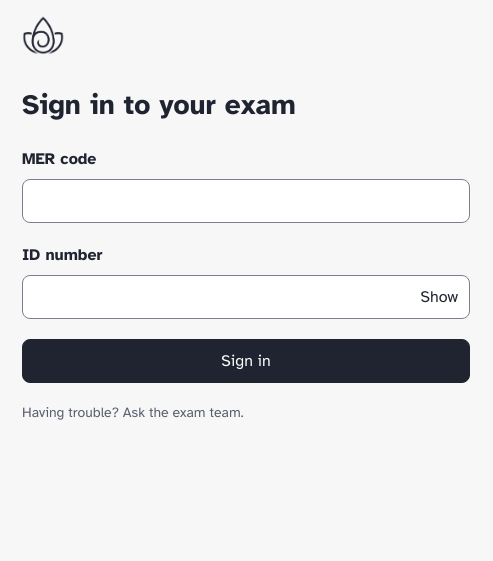
Test: LoginForm › shows the one generic credential error and clears only the ID
This screenshot has width=493, height=561.
Type "test-001" into the field labelled "MER code". click: x=246, y=201
box: [22,179,470,223]
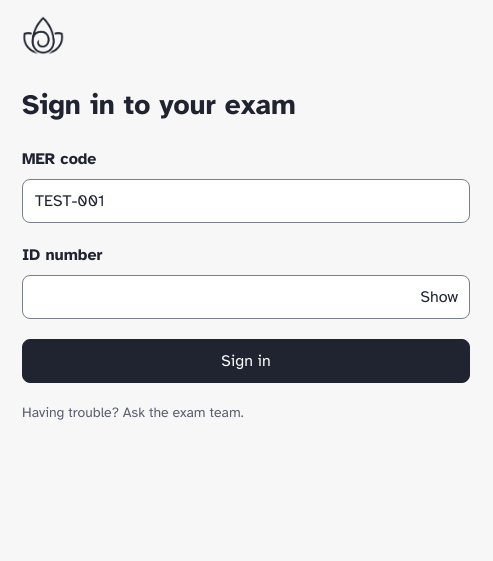
Type "200012345678" into the password field labelled "ID number". click: x=246, y=297
box: [22,275,470,319]
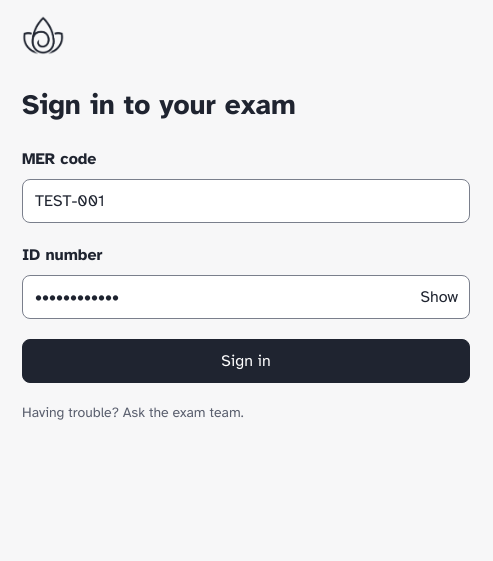
Click the button "Sign in". click: x=246, y=361
box: [22,339,470,383]
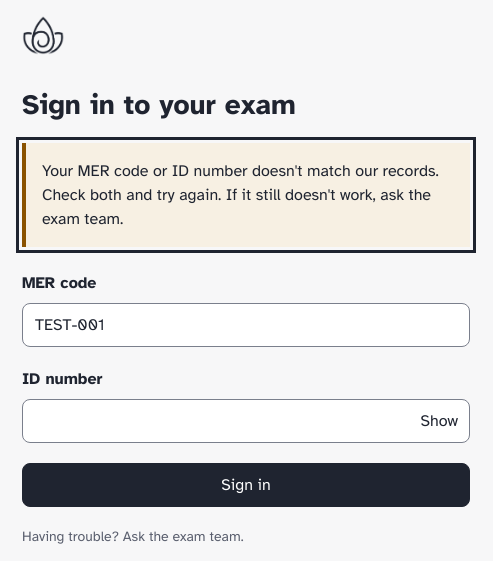
Result: the message shows "Your MER code or ID number doesn't match our records." at [42,161,439,229]
Result: the password field labelled "ID number" is empty at [22,399,470,443]
